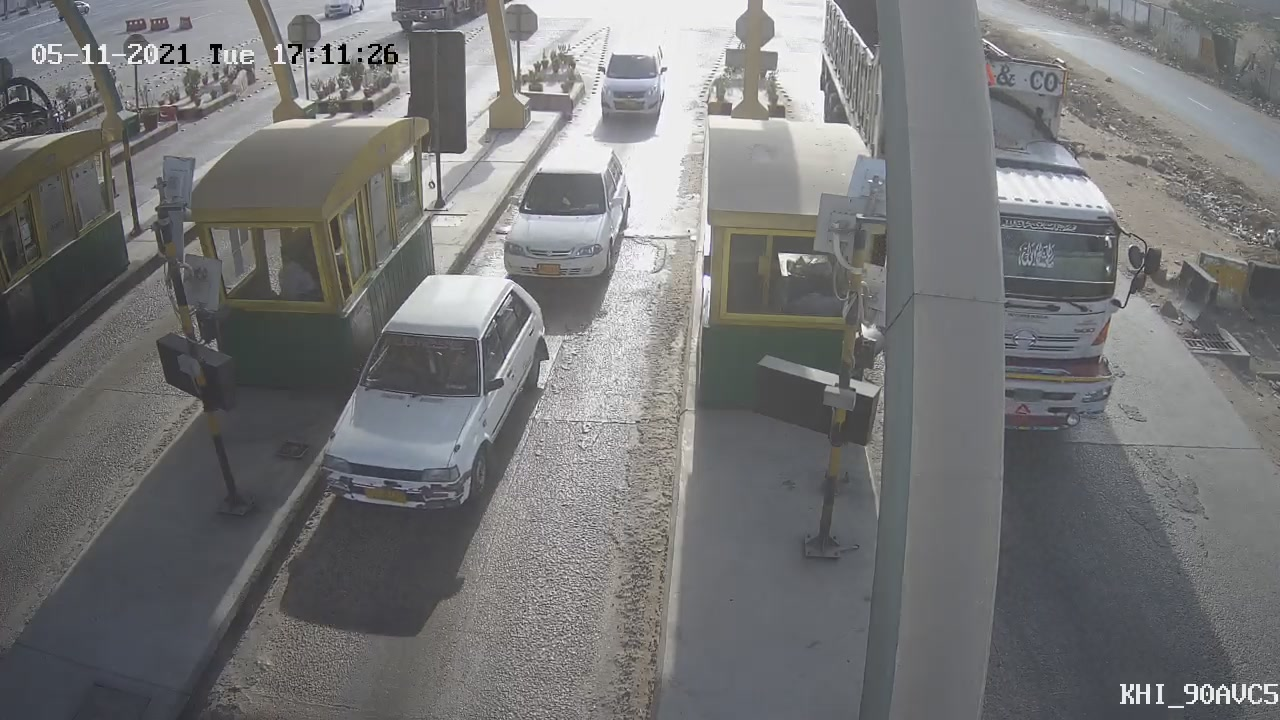F1: (300, 256, 572, 533), (483, 126, 647, 305), (579, 35, 683, 127)
